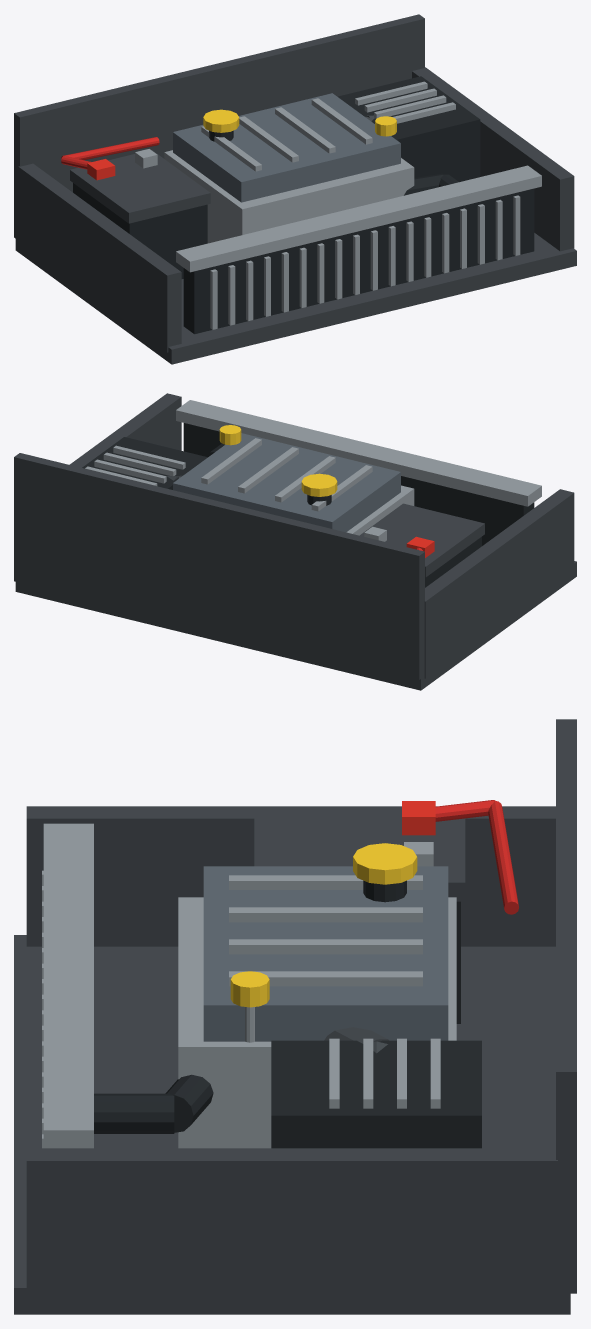
File: engine-bay.glb
The picture shows the model from 3 angles, top to bottom: view 1: azimuth 30°, elevation 25°; view 2: azimuth 150°, elevation 25°; view 3: azimuth 270°, elevation 25°; orthographic projection. The views are drawn at different scales.
Visible parts, largest first — view 1: EngineBay_RearWall, EngineBay_InnerWing (×2), Radiator, Engine_ValveCover, EngineBay_Floor, Radiator_Top, Engine_Block, Radiator_Fin (×15), AirFilter_Box, Battery_Top, Battery, Engine_CoverRib (×4) (+5 smaller); view 2: EngineBay_RearWall, EngineBay_InnerWing (×2), Engine_ValveCover, Radiator_Top, EngineBay_Floor, Radiator, Battery_Top, Engine_CoverRib (×4), AirFilter_Rib (×3), AirFilter_Box, Engine_Block, Oil_Cap (+2 smaller); view 3: EngineBay_InnerWing (×2), EngineBay_Floor, Engine_ValveCover, AirFilter_Box, Radiator_Top, Engine_Block, EngineBay_RearWall, Engine_CoverRib (×4), Battery_Top, Coolant_Hose_1, AirFilter_Rib (×3), Oil_Cap (+6 smaller).
Boxes of the visible parts, left/top/right/bottom form: EngineBay_RearWall: left=14, top=14, right=424, bottom=239; EngineBay_InnerWing (×2): left=18, top=67, right=574, bottom=352; Radiator: left=183, top=188, right=534, bottom=334; Engine_ValveCover: left=173, top=93, right=400, bottom=202; EngineBay_Floor: left=15, top=233, right=576, bottom=364; Radiator_Top: left=176, top=165, right=541, bottom=272; Engine_Block: left=164, top=150, right=414, bottom=243; Radiator_Fin (×15): left=210, top=195, right=520, bottom=329; AirFilter_Box: left=338, top=76, right=480, bottom=181; Battery_Top: left=70, top=150, right=210, bottom=223; Battery: left=73, top=183, right=207, bottom=278; Engine_CoverRib (×4): left=201, top=98, right=372, bottom=171; EngineBay_RearWall: left=14, top=453, right=424, bottom=679; EngineBay_InnerWing (×2): left=69, top=393, right=574, bottom=678; Engine_ValveCover: left=173, top=433, right=400, bottom=532; Radiator_Top: left=176, top=400, right=541, bottom=506; EngineBay_Floor: left=15, top=561, right=576, bottom=690; Radiator: left=183, top=423, right=534, bottom=545; Battery_Top: left=360, top=503, right=484, bottom=577; Engine_CoverRib (×4): left=201, top=438, right=372, bottom=511; AirFilter_Rib (×3): left=94, top=445, right=185, bottom=483; AirFilter_Box: left=82, top=437, right=207, bottom=489; Engine_Block: left=346, top=485, right=414, bottom=535; Oil_Cap: left=301, top=473, right=337, bottom=496; EngineBay_InnerWing (×2): left=26, top=806, right=557, bottom=1298; EngineBay_Floor: left=14, top=935, right=570, bottom=1314; Engine_ValveCover: left=203, top=866, right=448, bottom=1041; AirFilter_Box: left=271, top=1040, right=481, bottom=1148; Radiator_Top: left=43, top=823, right=93, bottom=1148; Engine_Block: left=178, top=897, right=456, bottom=1148; EngineBay_RearWall: left=556, top=719, right=576, bottom=1293; Engine_CoverRib (×4): left=229, top=875, right=422, bottom=986; Battery_Top: left=254, top=811, right=465, bottom=901; Coolant_Hose_1: left=94, top=1093, right=174, bottom=1133; AirFilter_Rib (×3): left=329, top=1038, right=440, bottom=1108; Oil_Cap: left=353, top=843, right=417, bottom=884.
Size of the model in its own units: 0.995 by 0.3175 by 0.6675.
